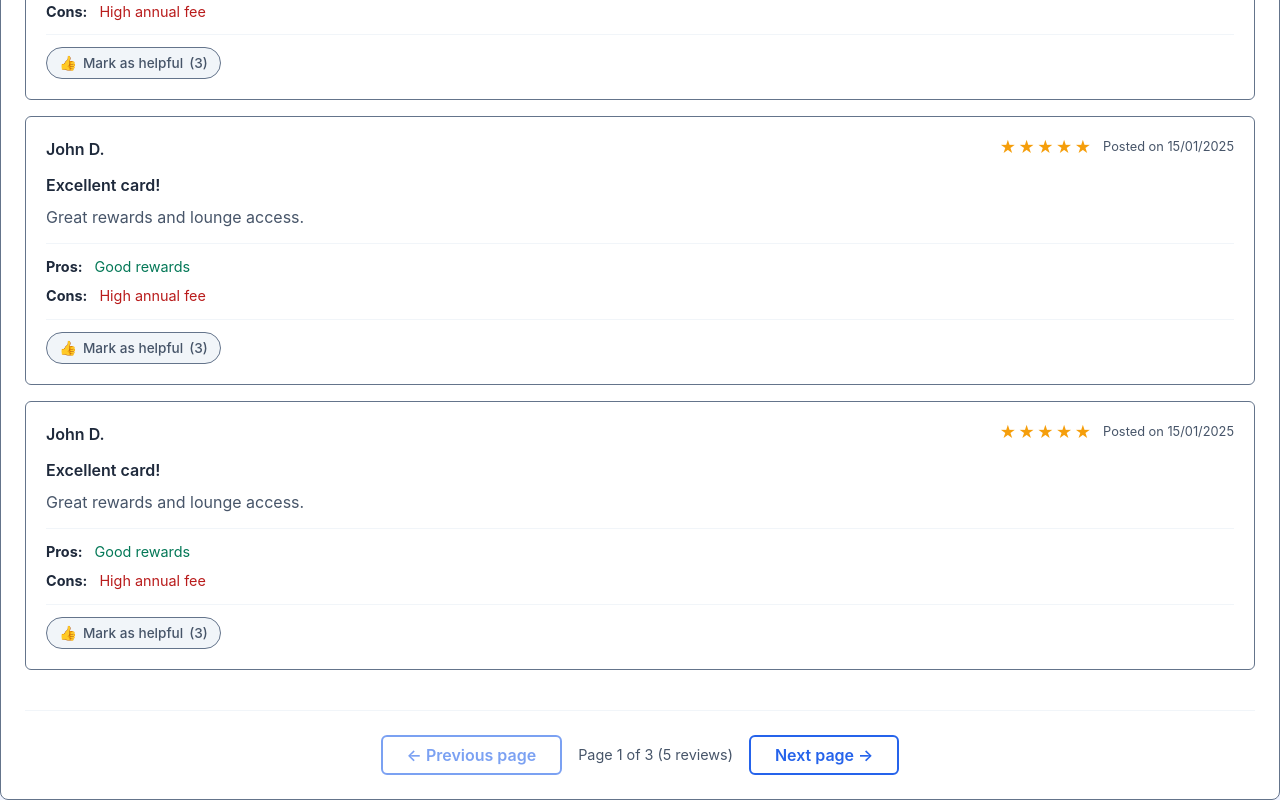
Test: ReviewsSection › Pagination › navigates to next page
(page scrolled)
Click the button "Next page →". click: coordinates (824, 755)
box: x1=749 y1=735 x2=899 y2=775
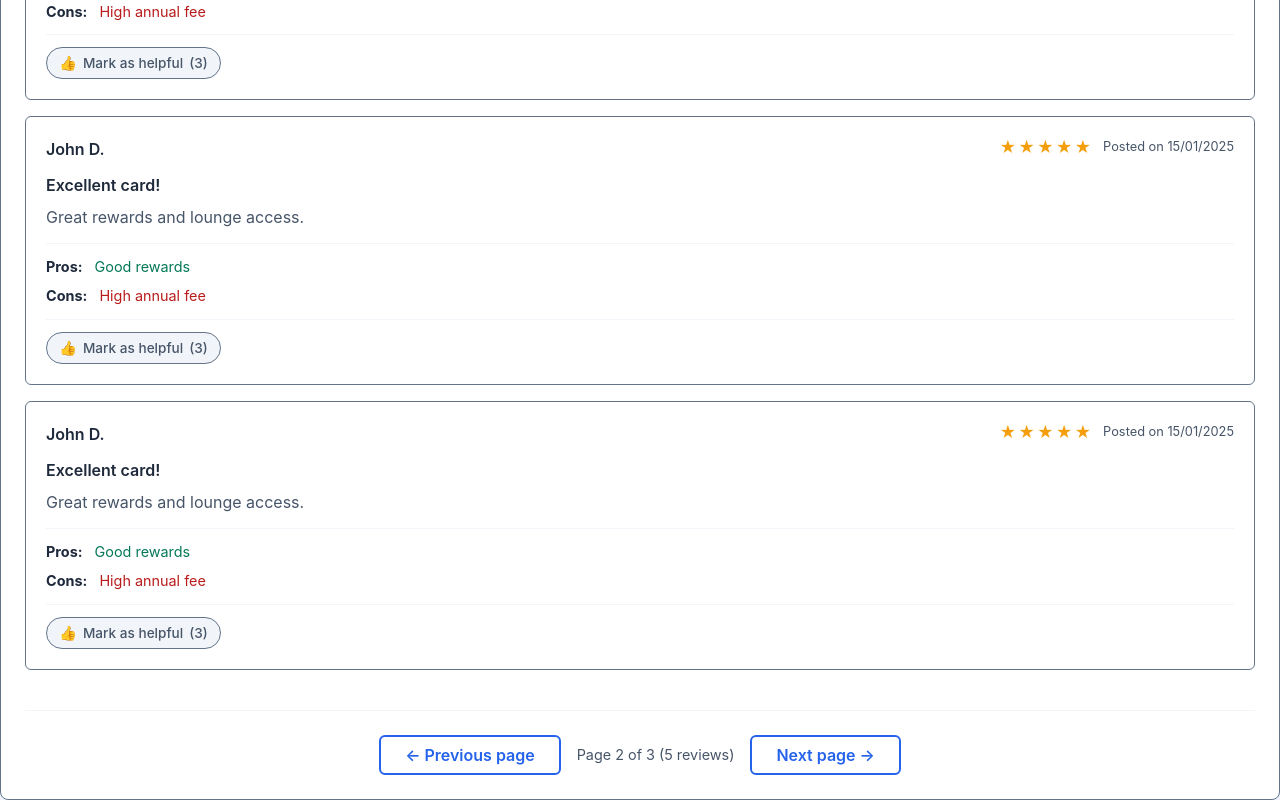
expect the text "Page 2 of 3" is shown: met, box x1=577 y1=746 x2=655 y2=763
